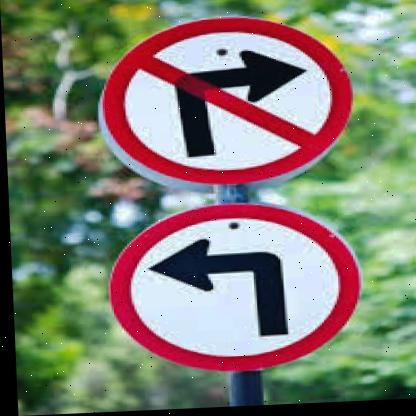No right turn: (90, 12, 344, 192)
